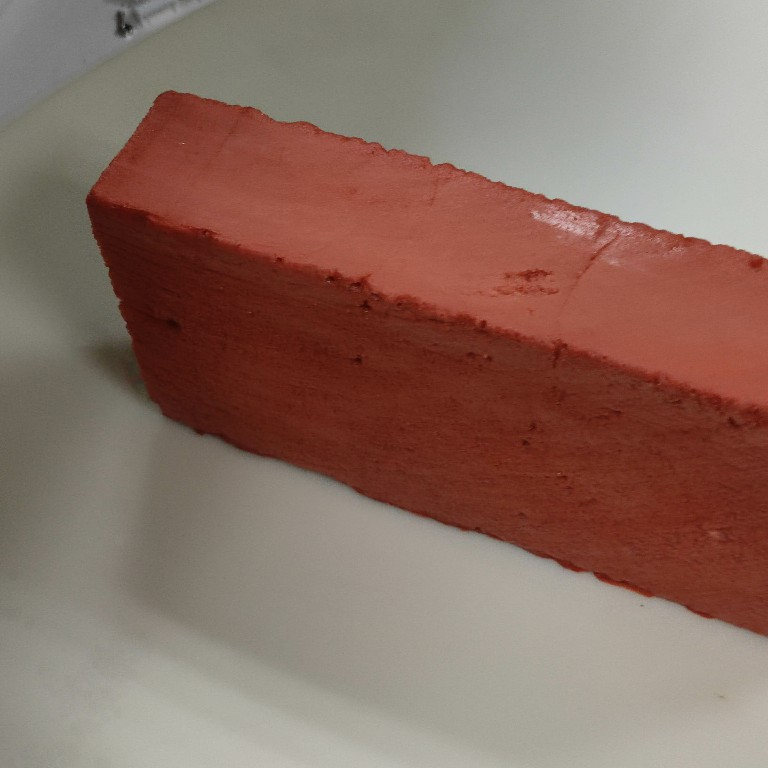brick: (78, 86, 768, 639)
